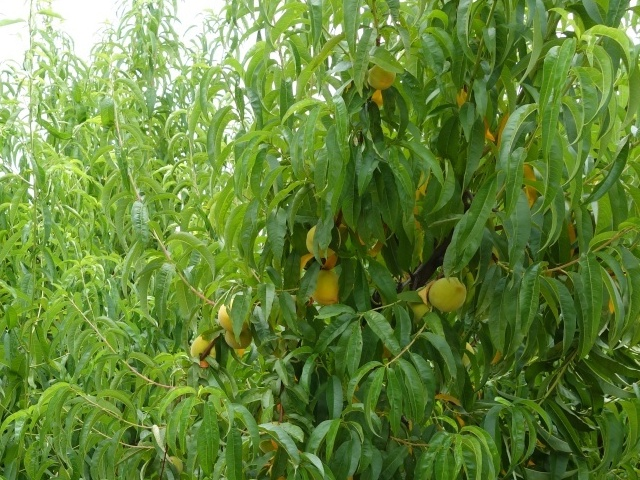peach: (426, 274, 470, 314), (310, 268, 345, 311), (214, 301, 249, 337), (302, 222, 337, 258), (364, 58, 399, 94), (187, 331, 221, 363), (221, 323, 256, 353)
